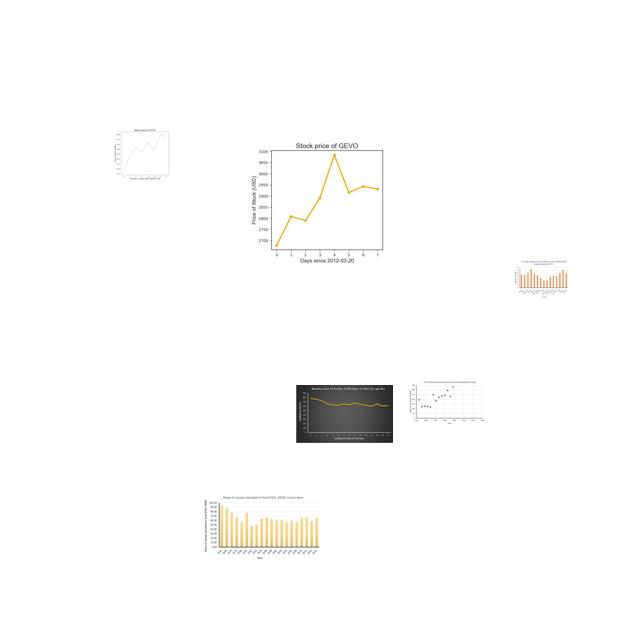Graph: (239, 135, 411, 264), (202, 493, 322, 561), (296, 385, 393, 443), (103, 125, 185, 181), (409, 380, 485, 425), (513, 260, 569, 299)
